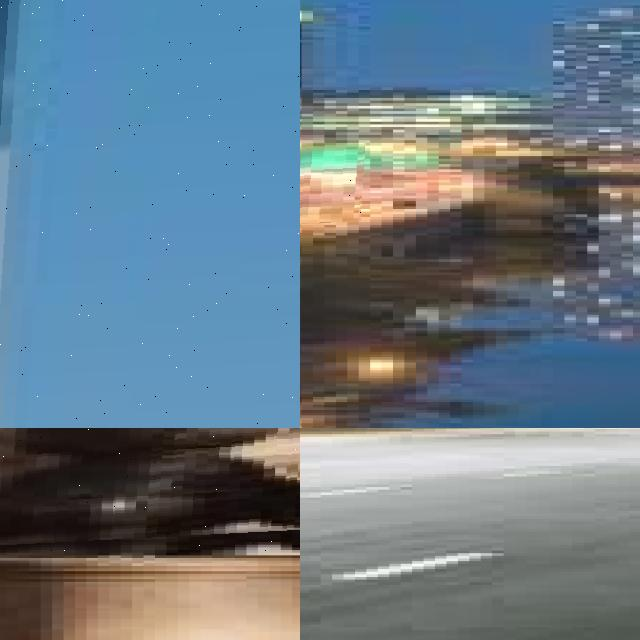street light: (0, 0, 300, 428), (0, 428, 300, 555), (300, 143, 365, 225), (370, 146, 439, 213)
